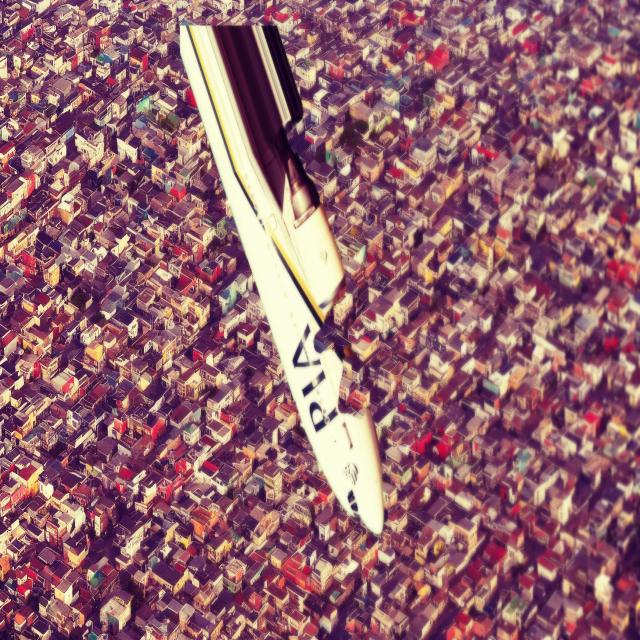airplane: (179, 19, 385, 536)
